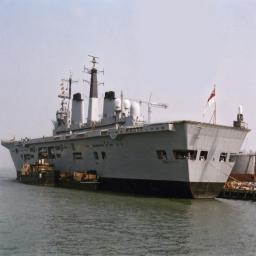Portanaves: (1, 52, 252, 206)
